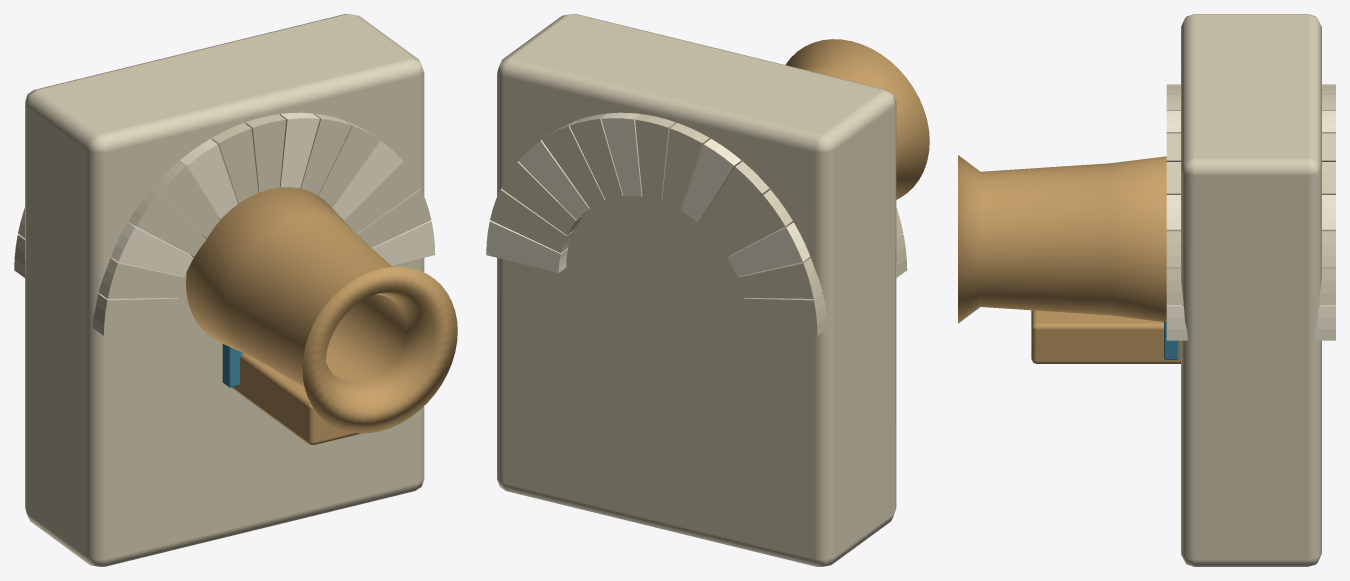
Rendered from fantasy-bathhouse-and-thermal-sanctuary-fantasy-bathho-227121c0__29439.glb.
The picture shows the model from 3 angles, left to right: view 1: azimuth 30°, elevation 25°; view 2: azimuth 150°, elevation 25°; view 3: azimuth 270°, elevation 25°; orthographic projection. The views are drawn at different scales.
Parts seen in each view (by area): view 1: fantasy-bathhouse-and-thermal-sanctuary-carved-water-spout; view 2: fantasy-bathhouse-and-thermal-sanctuary-carved-water-spout; view 3: fantasy-bathhouse-and-thermal-sanctuary-carved-water-spout.
Part boxes in pixels (x1,y1,x2,y2): fantasy-bathhouse-and-thermal-sanctuary-carved-water-spout: (14, 14, 457, 566); fantasy-bathhouse-and-thermal-sanctuary-carved-water-spout: (486, 14, 929, 566); fantasy-bathhouse-and-thermal-sanctuary-carved-water-spout: (958, 14, 1335, 566).
Size of the model in its own units: 0.65 by 0.8 by 0.67.
